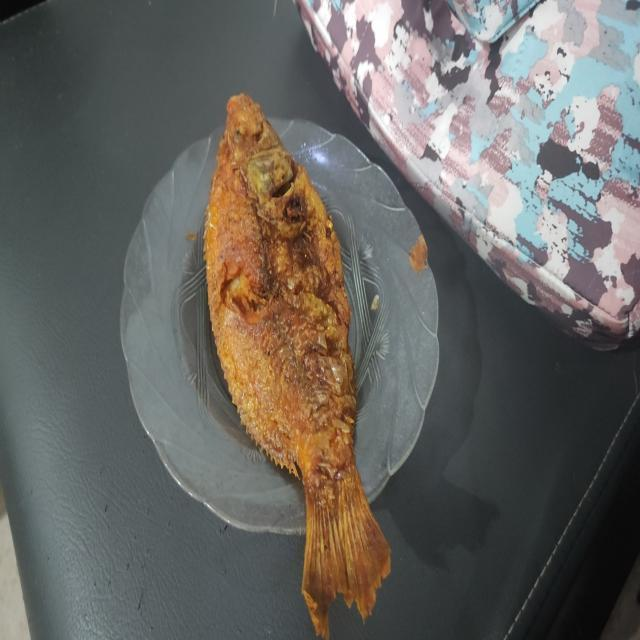ikan_mujair: (204, 94, 390, 625)
